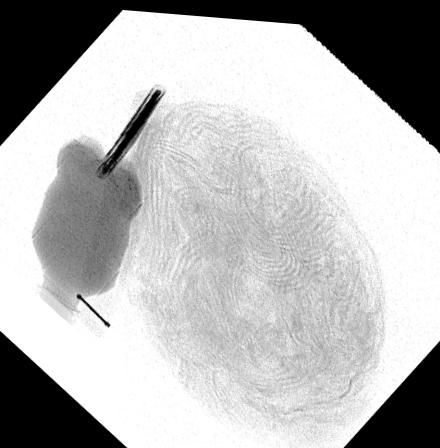Powerbank: (91, 79, 167, 178)
